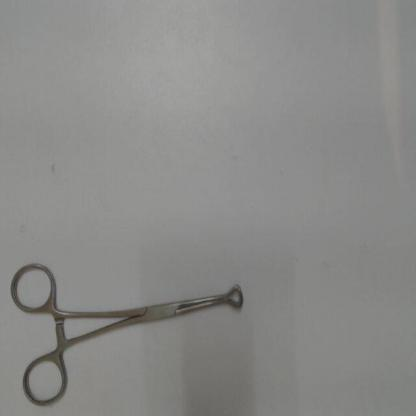Babcock Tissue Forceps: (8, 257, 247, 412)
